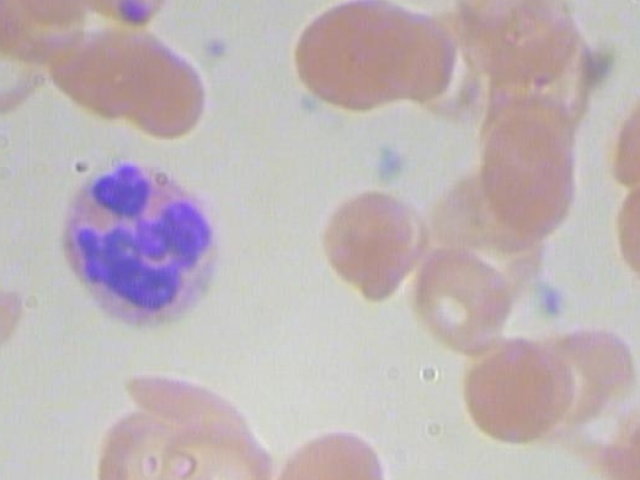Platelets: (367, 143, 412, 185), (533, 281, 575, 322), (113, 0, 154, 38)
RBC: (288, 0, 418, 117), (470, 115, 586, 236), (406, 239, 522, 359), (314, 183, 424, 309), (461, 328, 568, 443), (117, 31, 216, 143), (151, 407, 279, 480), (257, 424, 391, 480), (0, 0, 52, 118)
WBC: (32, 152, 244, 343)
